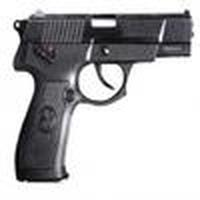gun: (7, 15, 192, 190)
